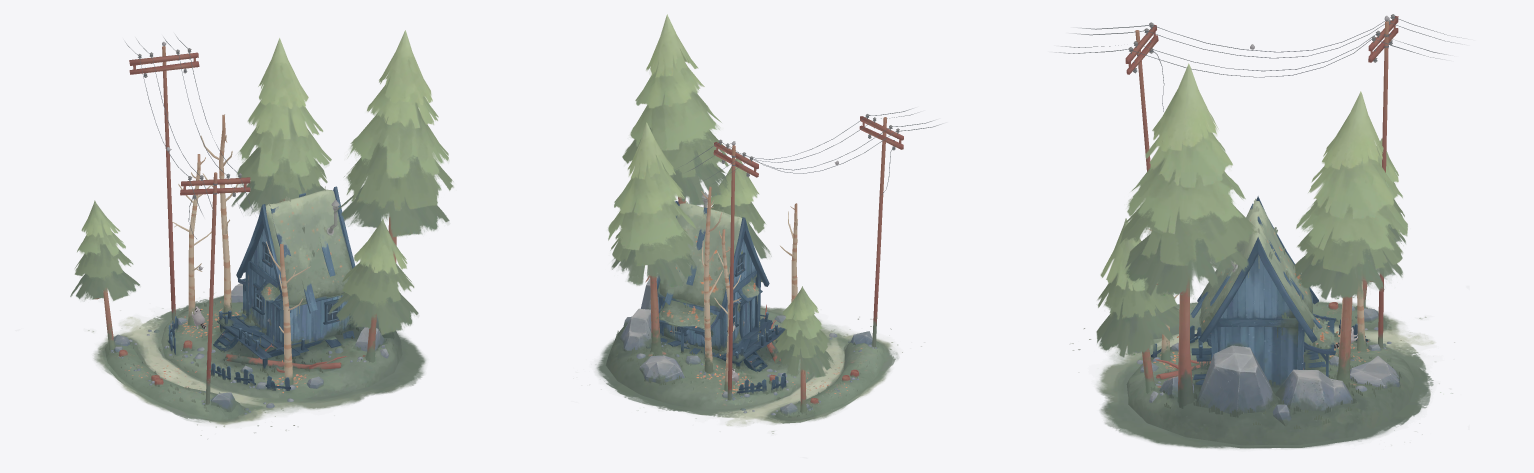
The model's file is forest-transformed.glb.
The picture shows the model from 3 angles, left to right: view 1: azimuth 30°, elevation 25°; view 2: azimuth 150°, elevation 25°; view 3: azimuth 270°, elevation 25°; orthographic projection. The views are drawn at different scales.
Visible parts, largest first — view 1: RedwoodAlpha_TreeLeafs_0, Ground_Ground_0, SideRoofBase_RoofMoss_0, GroundPlane_Plane_0, FenceRight_WoodFence_0, BTree.001_BrichTree_0, House_House_0, HouseFence_WoodPlanks_0, SmallRocks_BigRock_0, TallGrass_GrassALPHA_0, Windows.001_Window_0; view 2: RedwoodAlpha_TreeLeafs_0, Ground_Ground_0, SideRoofBase_RoofMoss_0, GroundPlane_Plane_0, FenceRight_WoodFence_0, BTree.001_BrichTree_0, House_House_0, SmallRocks_BigRock_0, TallGrass_GrassALPHA_0, HouseFence_WoodPlanks_0, Windows.001_Window_0; view 3: RedwoodAlpha_TreeLeafs_0, Ground_Ground_0, SmallRocks_BigRock_0, House_House_0, GroundPlane_Plane_0, SideRoofBase_RoofMoss_0, FenceRight_WoodFence_0, BTree.001_BrichTree_0, TallGrass_GrassALPHA_0, HouseFence_WoodPlanks_0.
Part boxes in pixels (box(x1,y1,x2,y2)): RedwoodAlpha_TreeLeafs_0: box(70, 30, 453, 335); Ground_Ground_0: box(105, 297, 402, 419); SideRoofBase_RoofMoss_0: box(238, 189, 352, 313); GroundPlane_Plane_0: box(88, 292, 426, 439); FenceRight_WoodFence_0: box(118, 46, 290, 404); BTree.001_BrichTree_0: box(94, 114, 396, 385); House_House_0: box(236, 186, 355, 346); HouseFence_WoodPlanks_0: box(213, 310, 354, 370); SmallRocks_BigRock_0: box(110, 283, 388, 414); TallGrass_GrassALPHA_0: box(108, 36, 394, 412); Windows.001_Window_0: box(243, 241, 341, 324); RedwoodAlpha_TreeLeafs_0: box(608, 14, 834, 377); Ground_Ground_0: box(605, 308, 884, 423); SideRoofBase_RoofMoss_0: box(657, 192, 762, 333); GroundPlane_Plane_0: box(595, 305, 924, 433); FenceRight_WoodFence_0: box(713, 114, 903, 404); BTree.001_BrichTree_0: box(645, 186, 806, 413); House_House_0: box(656, 201, 769, 351); SmallRocks_BigRock_0: box(619, 275, 876, 416); TallGrass_GrassALPHA_0: box(613, 108, 941, 417); HouseFence_WoodPlanks_0: box(660, 303, 785, 371); Windows.001_Window_0: box(659, 252, 745, 358); RedwoodAlpha_TreeLeafs_0: box(1096, 63, 1407, 358); Ground_Ground_0: box(1126, 302, 1415, 448); SmallRocks_BigRock_0: box(1135, 305, 1400, 426); House_House_0: box(1197, 196, 1318, 386); GroundPlane_Plane_0: box(1069, 300, 1454, 448); SideRoofBase_RoofMoss_0: box(1190, 201, 1335, 355); FenceRight_WoodFence_0: box(1125, 14, 1398, 358); BTree.001_BrichTree_0: box(1142, 228, 1372, 406); TallGrass_GrassALPHA_0: box(1055, 17, 1461, 429); HouseFence_WoodPlanks_0: box(1191, 336, 1325, 385).
Bounding box in the file's own units: 0.1447 × 0.1437 × 0.1766.
Materials: 12 (12 with a texture image).
